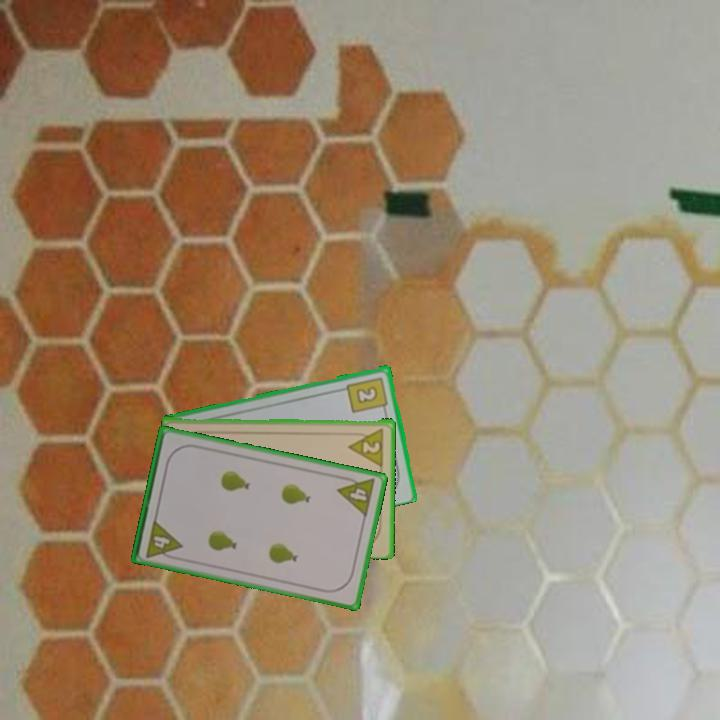2b: (344, 373, 391, 415)
2p: (346, 424, 386, 467)
4p: (334, 472, 378, 519), (142, 516, 185, 563)
